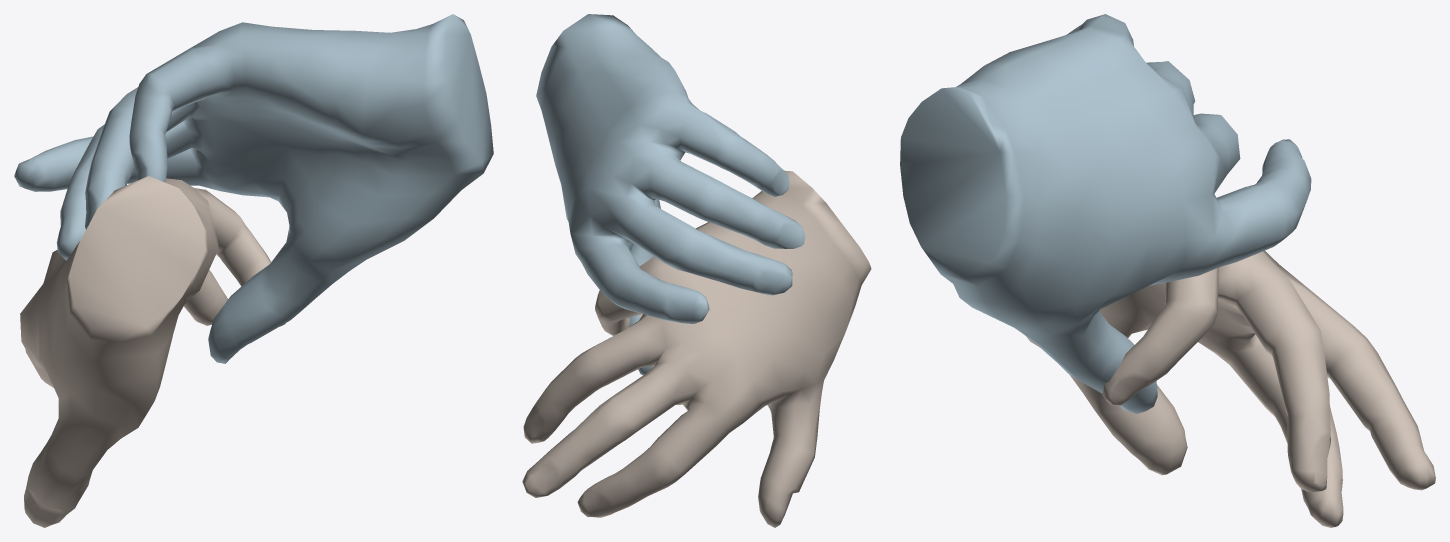
3 views of the same model, side by side, from view 1: azimuth 30°, elevation 25°; view 2: azimuth 150°, elevation 25°; view 3: azimuth 270°, elevation 25° (orthographic). The views are drawn at different scales.
Bounding box in the file's own units: 0.166 × 0.1903 × 0.1664.
